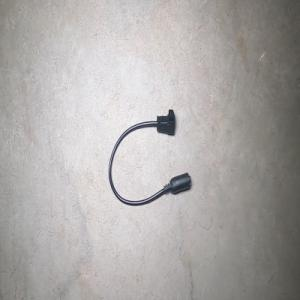Wire: (108, 109, 190, 205)
